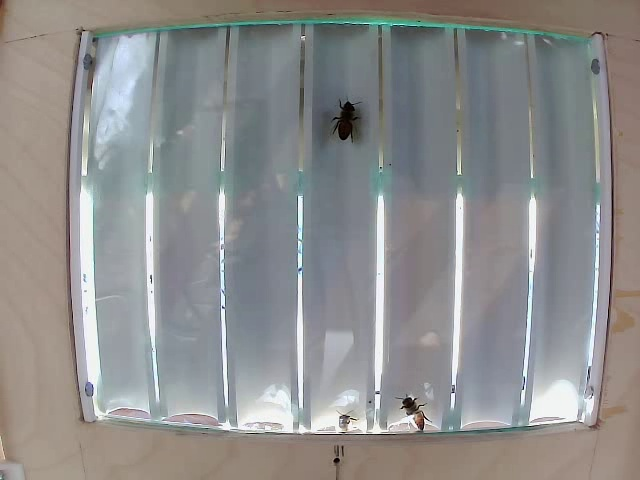bee: (329, 98, 370, 156)
